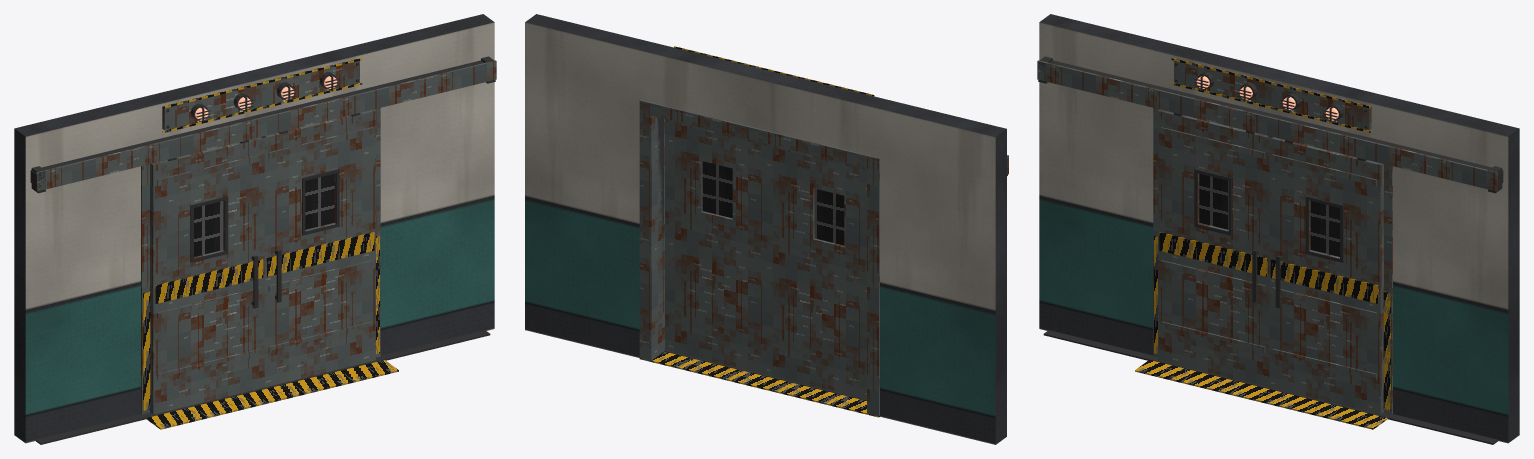
File: escape_wall.fbx
3 renders of one model, left to right at view 1: azimuth 30°, elevation 25°; view 2: azimuth 150°, elevation 25°; view 3: azimuth 330°, elevation 25°, orthographic.
Visible parts, largest first — view 1: EscapeWall_Wall, Door_L, Door_R, EscapeWall_Frame, EscapeWall_LampPlate; view 2: EscapeWall_Wall, Door_R, Door_L, EscapeWall_Frame; view 3: EscapeWall_Wall, Door_R, Door_L, EscapeWall_Frame, EscapeWall_LampPlate.
Boxes of the visible parts, x1,y1,x2,y2 form: EscapeWall_Wall: [14, 14, 494, 443]; Door_L: [150, 136, 266, 414]; Door_R: [260, 109, 375, 387]; EscapeWall_Frame: [30, 56, 496, 444]; EscapeWall_LampPlate: [162, 58, 362, 132]; EscapeWall_Wall: [525, 14, 1006, 444]; Door_R: [665, 119, 772, 376]; Door_L: [773, 145, 866, 399]; EscapeWall_Frame: [639, 100, 1008, 417]; EscapeWall_Wall: [1039, 14, 1519, 443]; Door_R: [1267, 136, 1383, 414]; Door_L: [1158, 109, 1273, 387]; EscapeWall_Frame: [1037, 56, 1503, 444]; EscapeWall_LampPlate: [1171, 58, 1371, 132].
Size of the model in its own units: 4.8 by 3 by 0.57.
